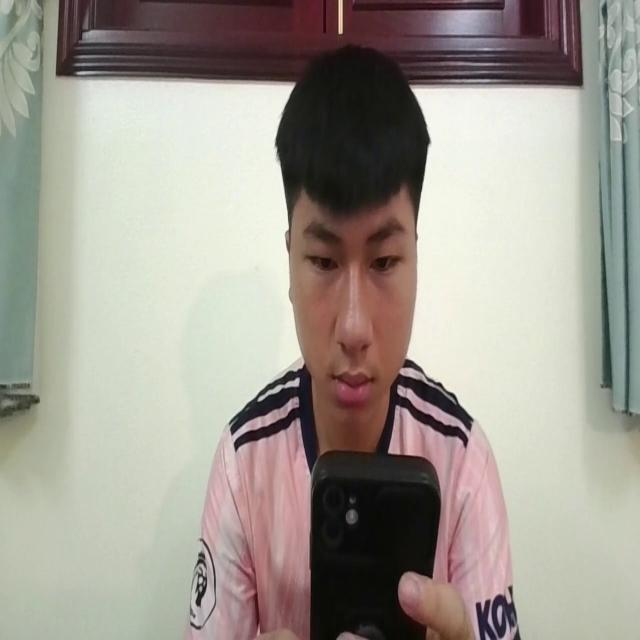phone: (306, 437, 441, 640)
student: (188, 55, 518, 640)
